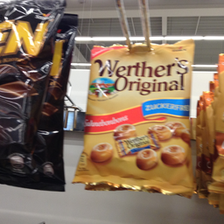candy: (85, 43, 193, 188)
